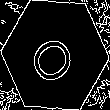O_NE: (26, 24, 84, 86)
